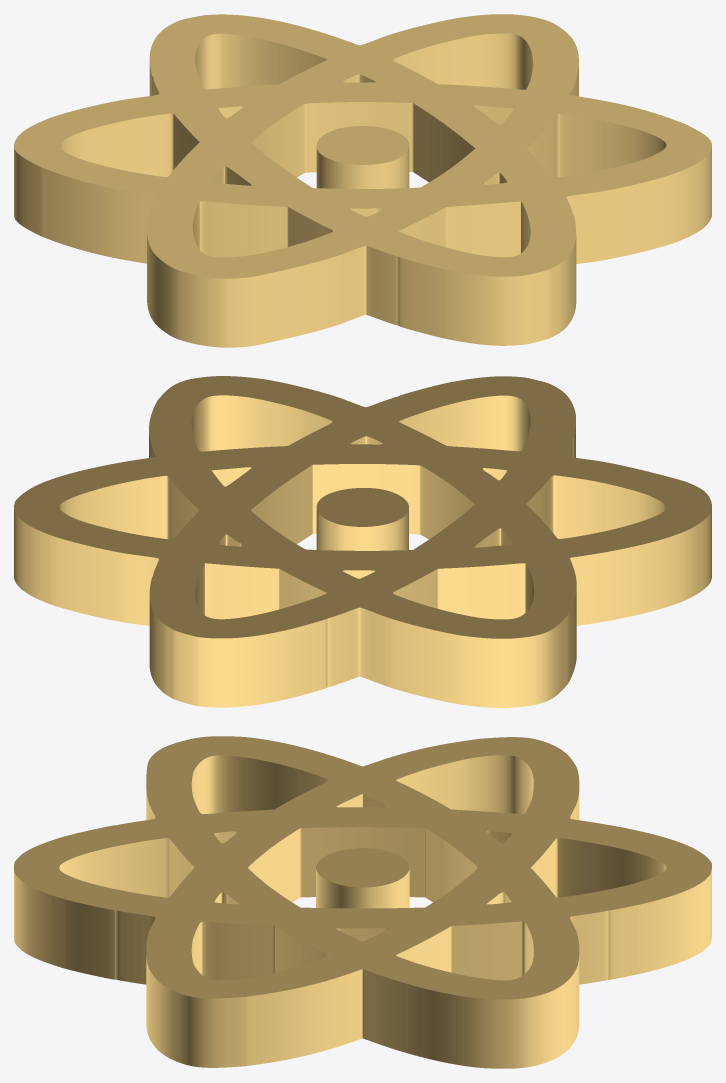
File: data-science.glb
The picture shows the model from 3 angles, top to bottom: view 1: azimuth 30°, elevation 25°; view 2: azimuth 150°, elevation 25°; view 3: azimuth 270°, elevation 25°; orthographic projection.
Parts seen in each view (by area): view 1: Node1, Node2; view 2: Node1, Node2; view 3: Node1, Node2.
Part boxes in pixels (bbox=[...]): Node1: bbox=[14, 14, 711, 347]; Node2: bbox=[316, 126, 409, 188]; Node1: bbox=[14, 376, 711, 707]; Node2: bbox=[316, 488, 408, 550]; Node1: bbox=[14, 736, 711, 1068]; Node2: bbox=[316, 848, 409, 908].
Bounding box in the file's own units: 81.38 × 10 × 91.21.
